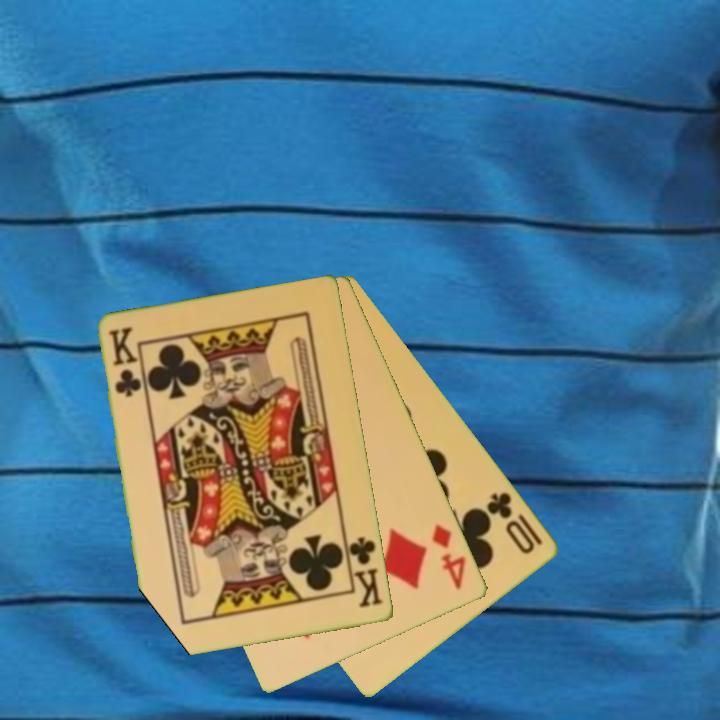10c: (483, 488, 546, 557)
4d: (428, 520, 470, 593)
Kc: (342, 533, 387, 611), (105, 324, 144, 400)
